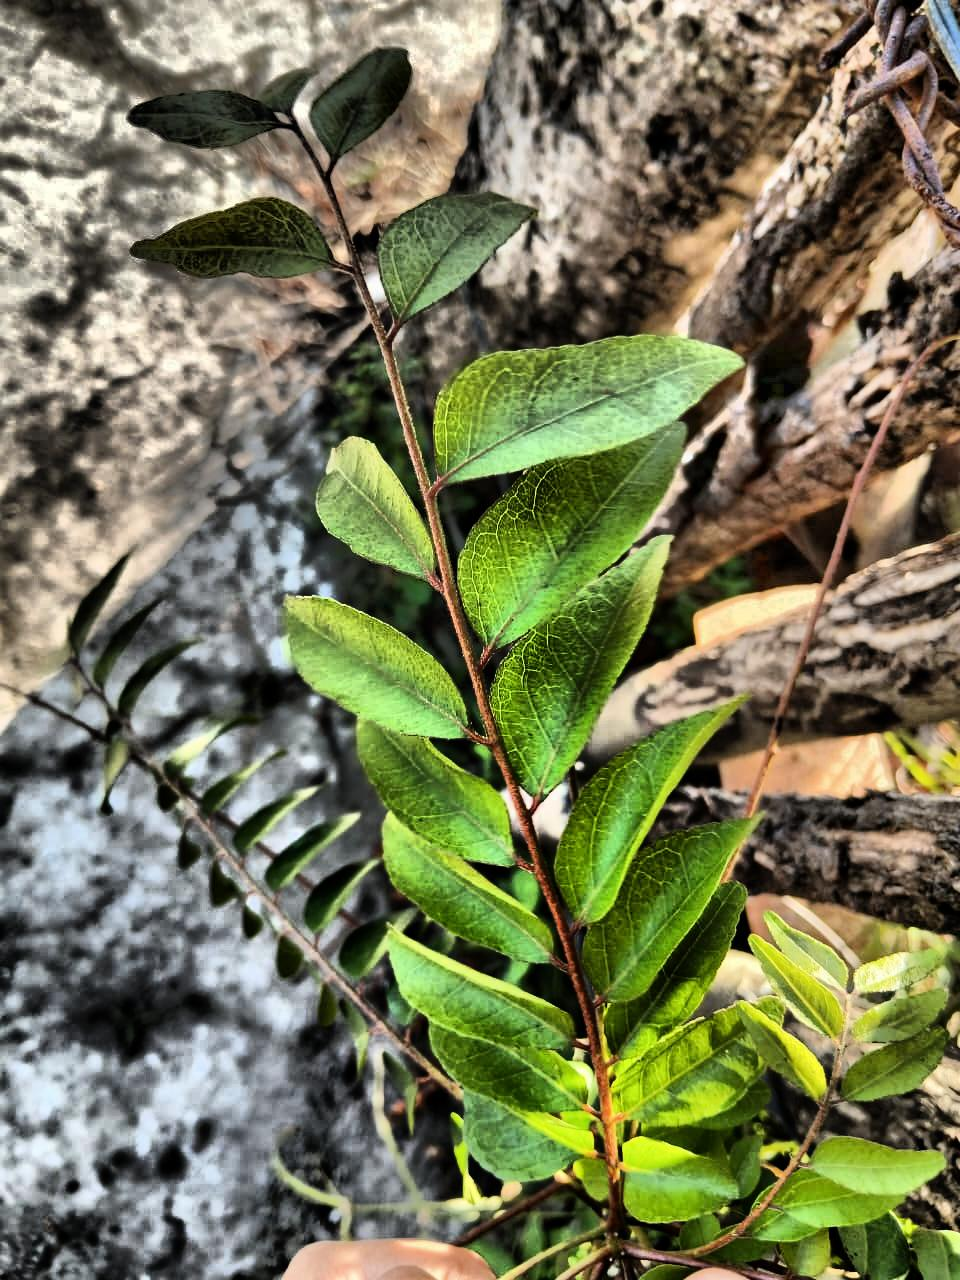daun kari: (133, 192, 759, 1275)
